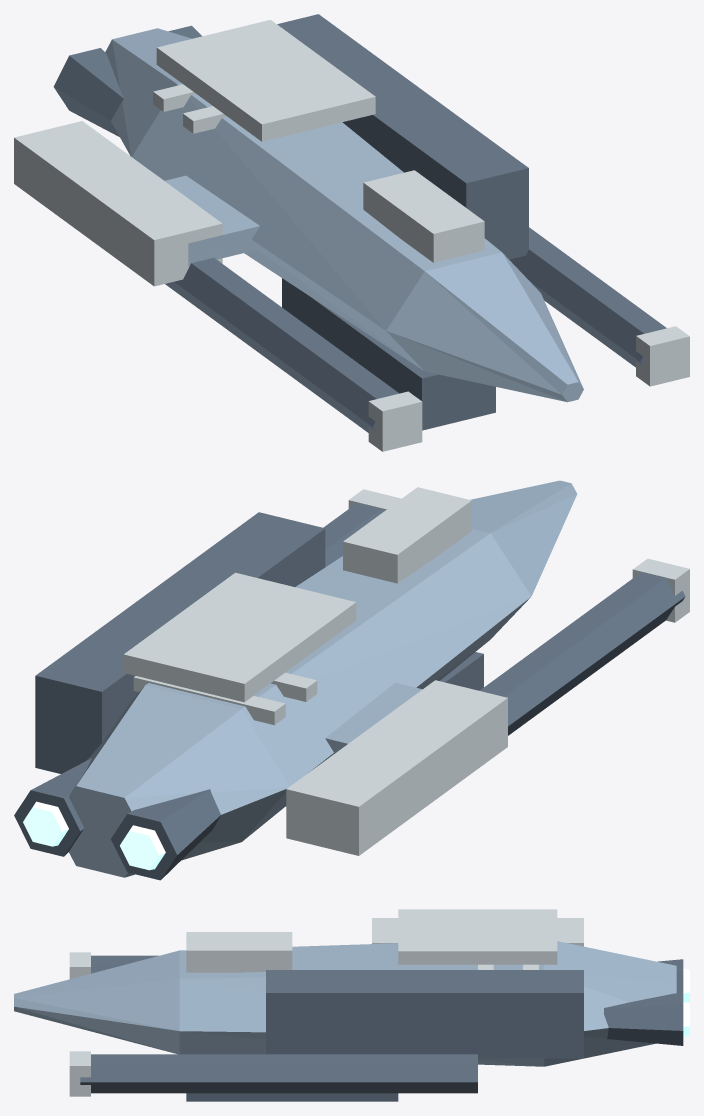
The picture shows the model from 3 angles, top to bottom: view 1: azimuth 30°, elevation 25°; view 2: azimuth 150°, elevation 25°; view 3: azimuth 270°, elevation 25°; orthographic projection. The views are drawn at different scales.
Size of the model in its own units: 2.5 by 1.47 by 5.71.
